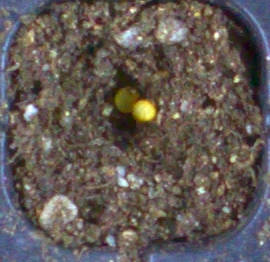pepper seed: (53, 38, 210, 161), (43, 28, 186, 144)
